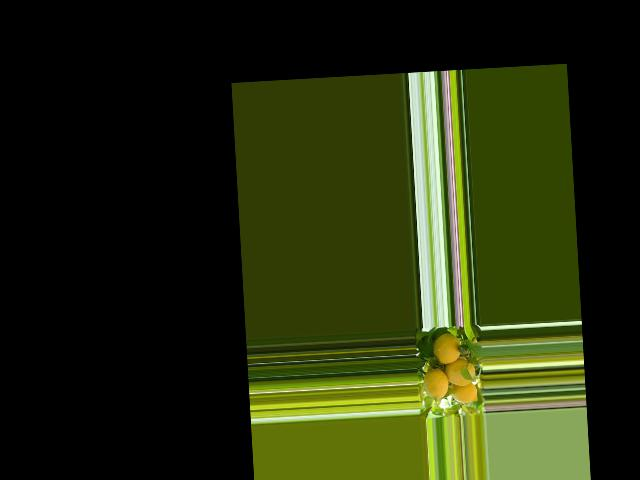lemon: (431, 331, 465, 364)
